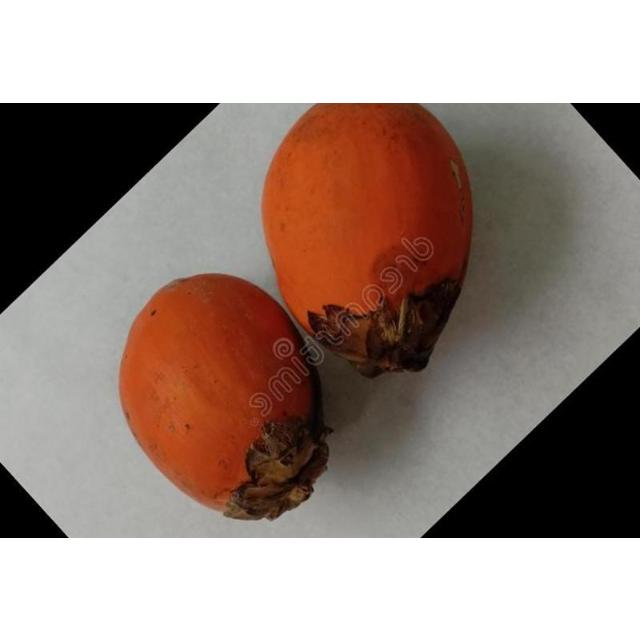good: (257, 102, 467, 372), (125, 279, 334, 512)
